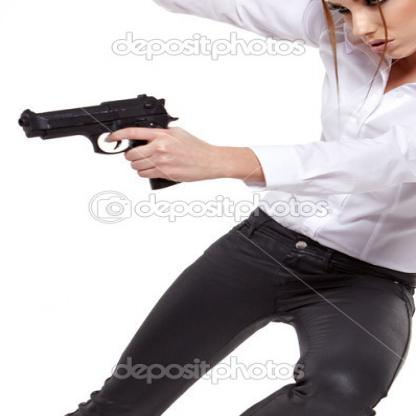gun: (6, 86, 198, 195)
